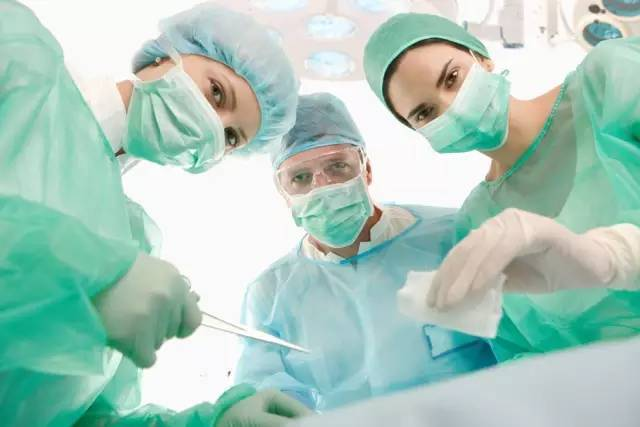mask: (122, 76, 226, 176), (415, 67, 511, 153), (289, 179, 374, 246)
